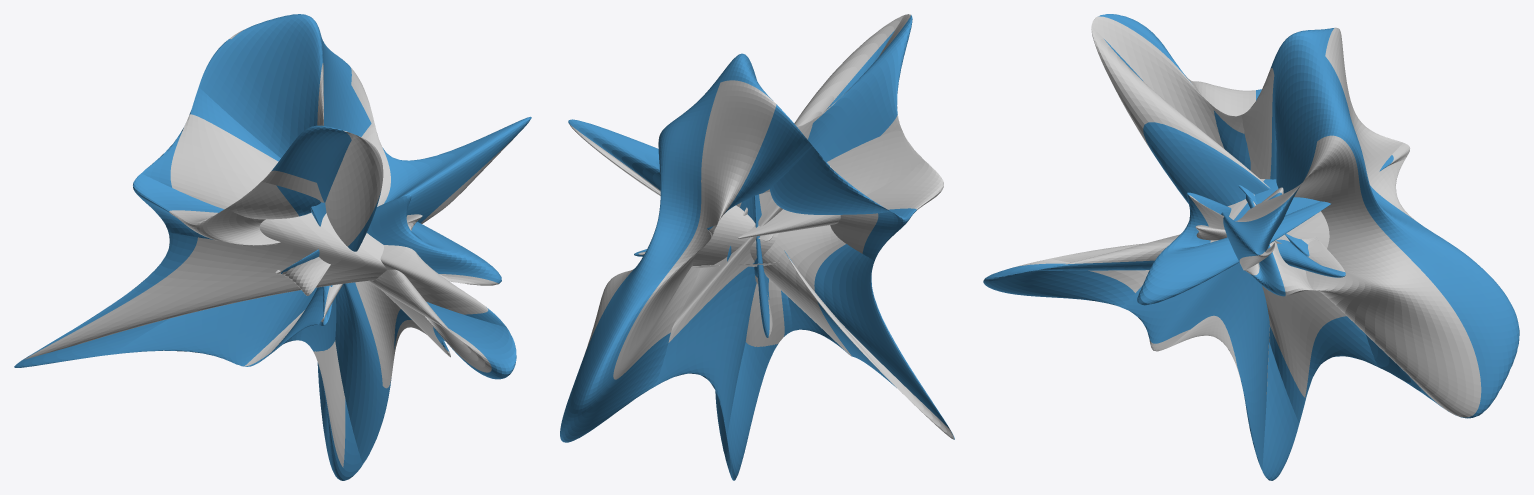
Rendered from ball.obj.
3 renders of one model, left to right at view 1: azimuth 30°, elevation 25°; view 2: azimuth 150°, elevation 25°; view 3: azimuth 270°, elevation 25°, orthographic. The views are drawn at different scales.
Visible parts, largest first — view 1: Cube_Cube.001; view 2: Cube_Cube.001; view 3: Cube_Cube.001.
Boxes of the visible parts, x1,y1,x2,y2 form: Cube_Cube.001: [14, 14, 531, 480]; Cube_Cube.001: [560, 14, 954, 480]; Cube_Cube.001: [983, 14, 1519, 480].
Bounding box in the file's own units: 5.31 × 5.07 × 5.63.
